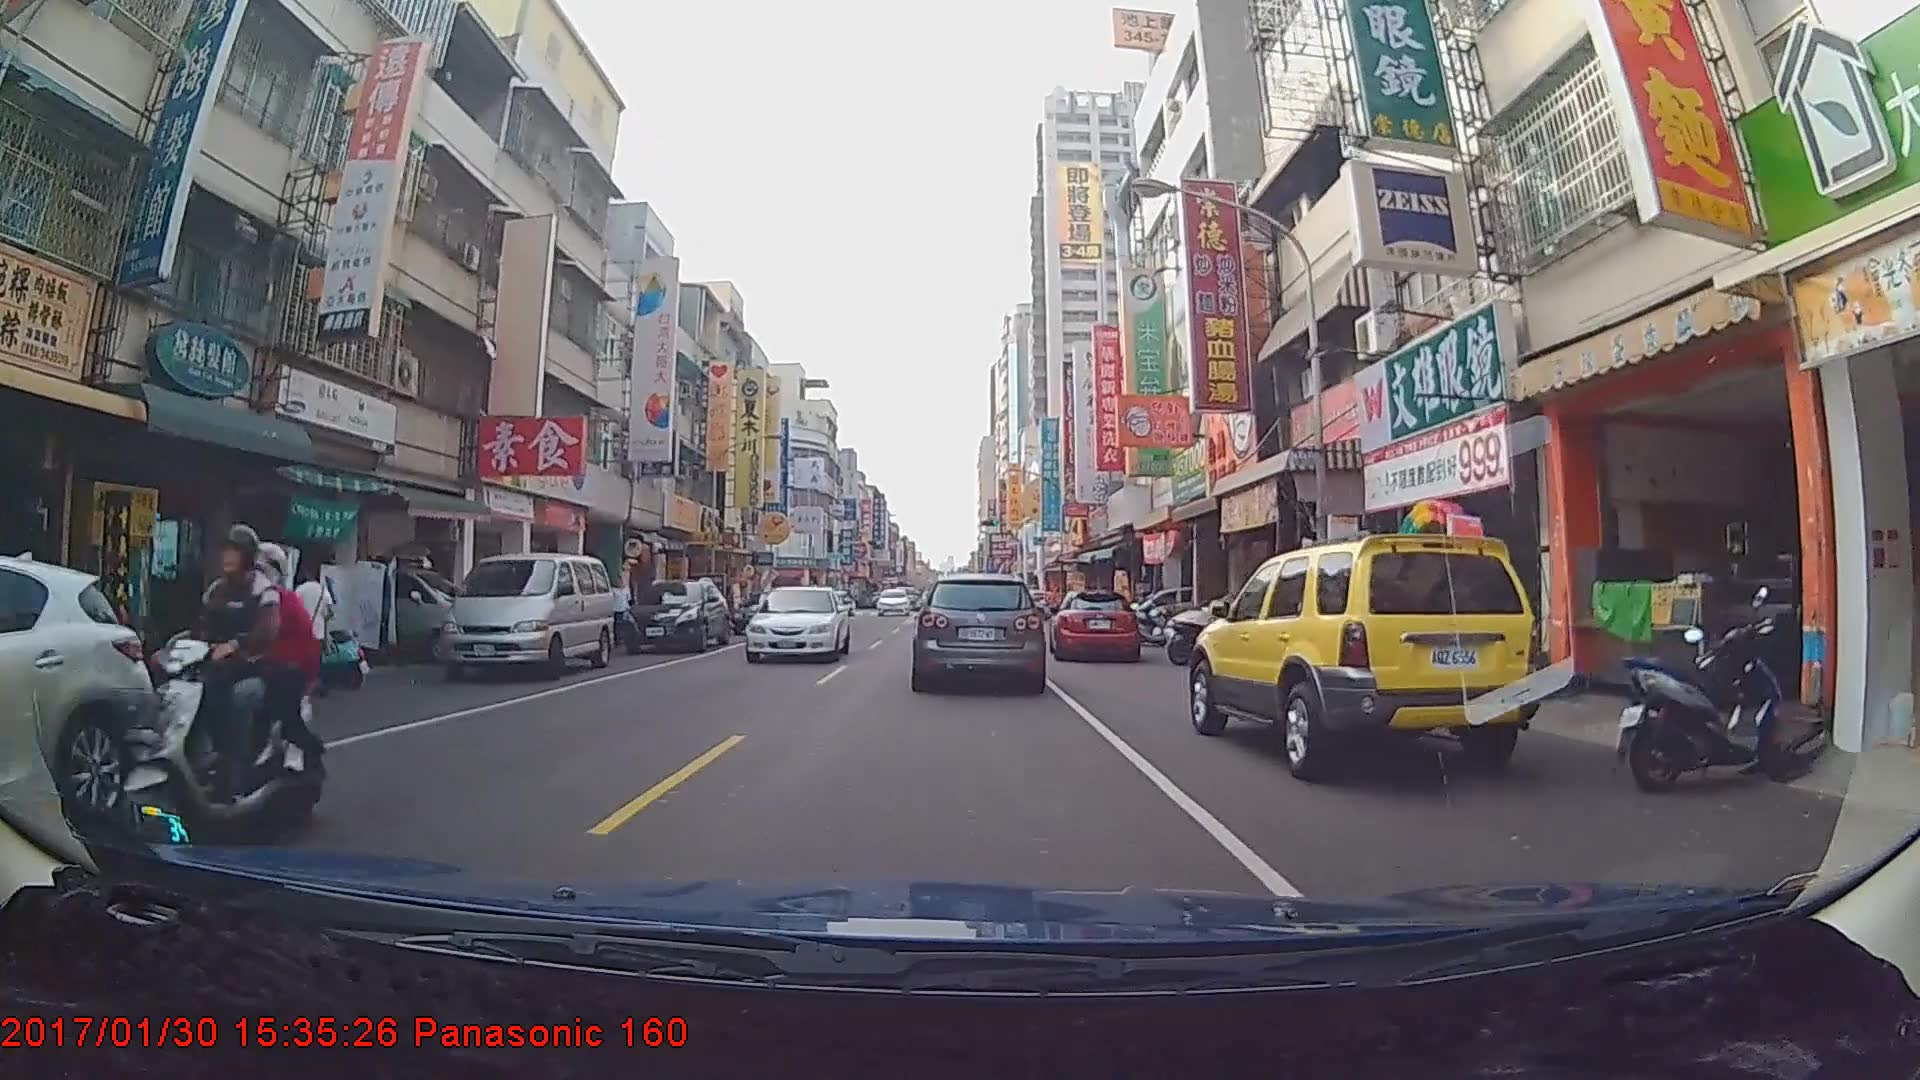pedestrian: (284, 557, 340, 694), (610, 576, 631, 648)
rider: (145, 517, 325, 853)
vehicle: (1189, 528, 1540, 772), (0, 554, 165, 831), (437, 551, 612, 679), (913, 573, 1044, 689), (747, 586, 850, 665), (620, 578, 729, 653), (1049, 589, 1141, 661), (875, 589, 911, 617)
